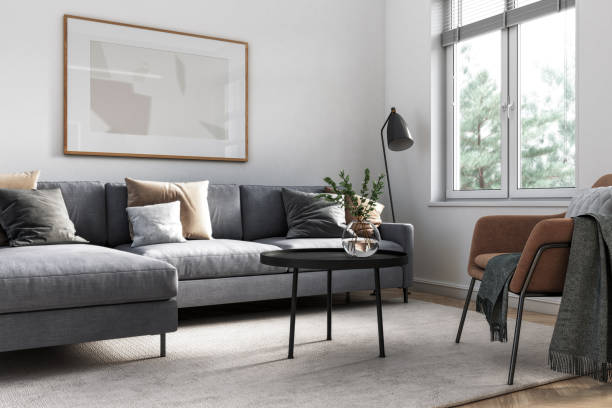chair: (454, 172, 612, 385)
floor lamp: (377, 104, 416, 223)
small plant: (320, 163, 389, 258)
sofa: (0, 169, 417, 360)
table: (257, 245, 410, 360)
wall art: (59, 10, 250, 165)
